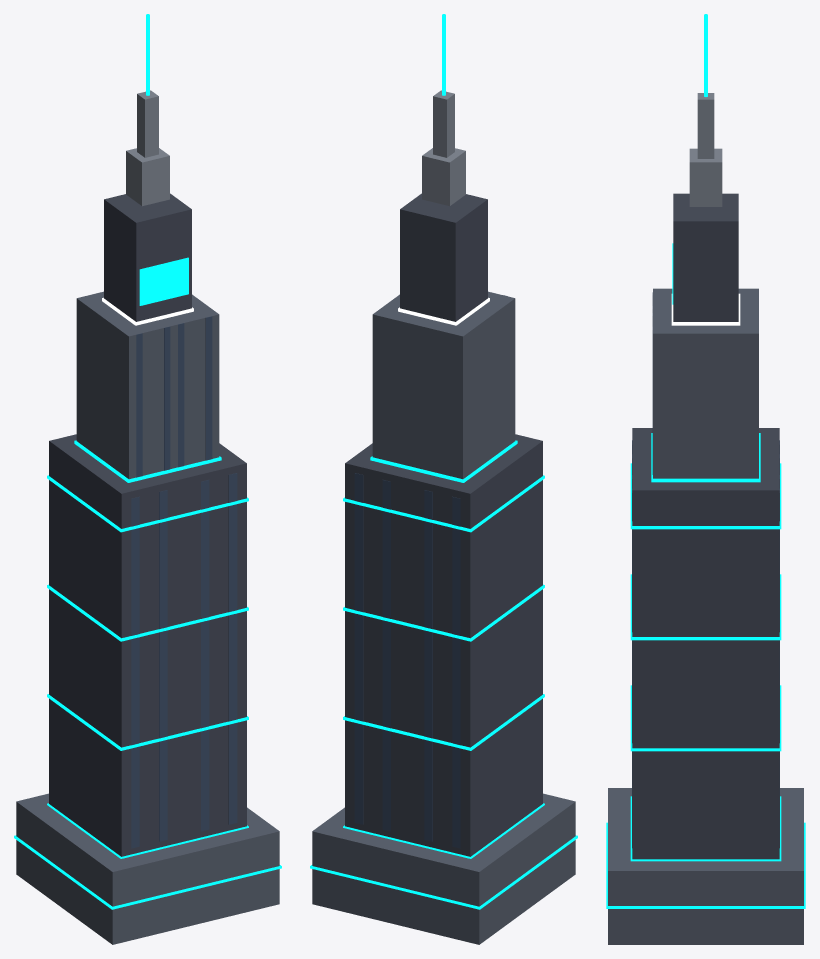
File: CORP_BLD_MegaTower_Mega.glb
3 renders of one model, left to right at view 1: azimuth 30°, elevation 25°; view 2: azimuth 150°, elevation 25°; view 3: azimuth 270°, elevation 25°, orthographic.
Visible parts, largest first — view 1: CORP_BLD_MegaTower_Mega; view 2: CORP_BLD_MegaTower_Mega; view 3: CORP_BLD_MegaTower_Mega.
Boxes of the visible parts, <box> form: CORP_BLD_MegaTower_Mega: <box>14,14,281,944</box>; CORP_BLD_MegaTower_Mega: <box>310,14,577,944</box>; CORP_BLD_MegaTower_Mega: <box>606,14,805,944</box>.
Size of the model in its own units: 24.4 by 120 by 24.4.
